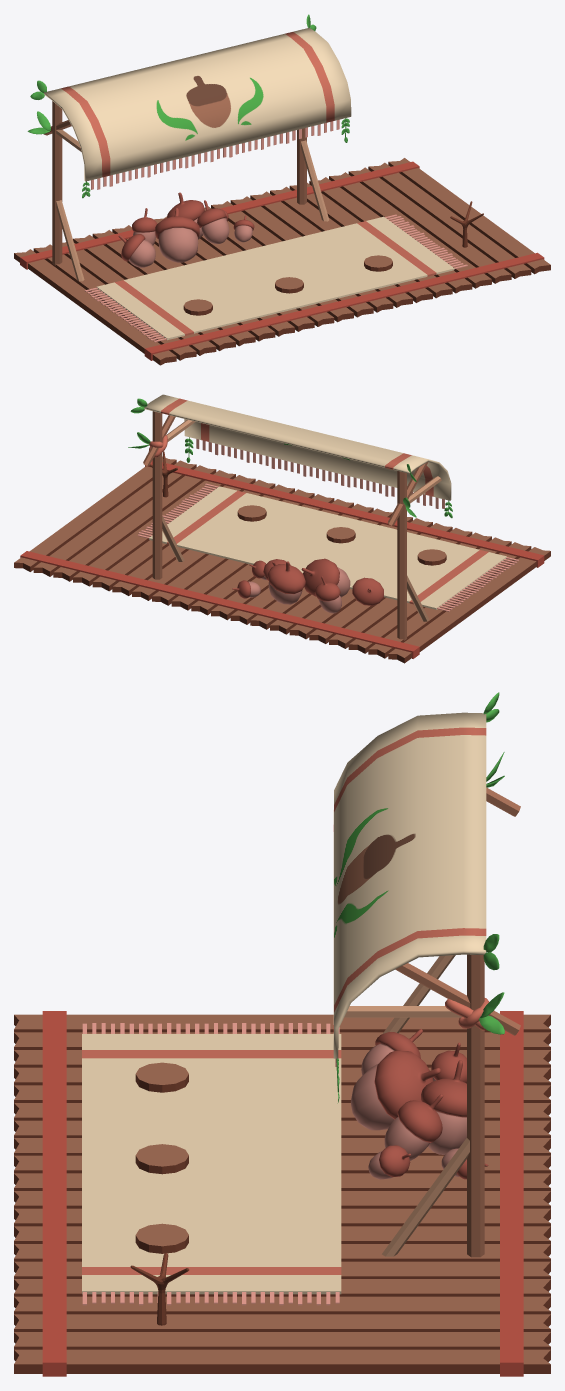
Rendered from shopkeeper_area.fbx.
3 views of the same model, one above another, from view 1: azimuth 30°, elevation 25°; view 2: azimuth 150°, elevation 25°; view 3: azimuth 270°, elevation 25° (orthographic). The views are drawn at different scales.
Visible parts, largest first — view 1: Plane.006; view 2: Plane.006; view 3: Plane.006.
Boxes of the visible parts, x1,y1,x2,y2 form: Plane.006: (14, 14, 550, 365); Plane.006: (14, 394, 550, 663); Plane.006: (14, 692, 550, 1376).
Size of the model in its own units: 706 by 321 by 456.
